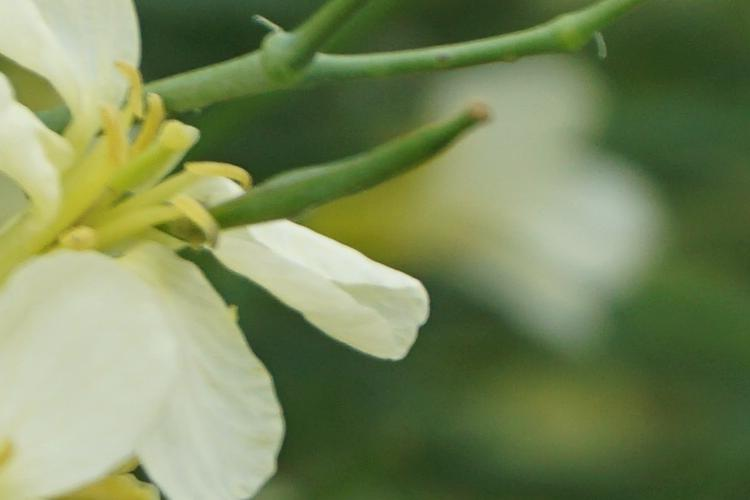pod: (221, 113, 513, 243)
white: (2, 1, 421, 500)
